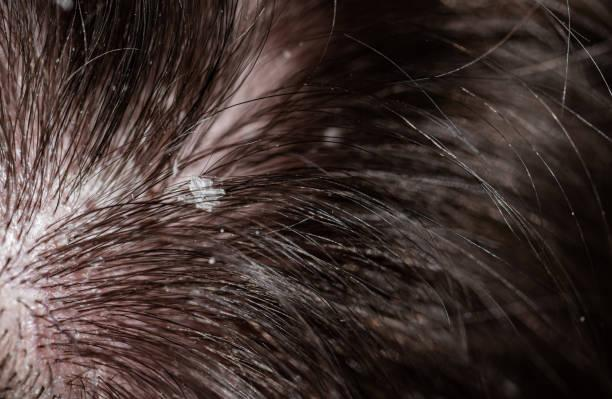dandruff: (177, 158, 231, 230), (103, 63, 137, 109), (206, 254, 221, 270)
